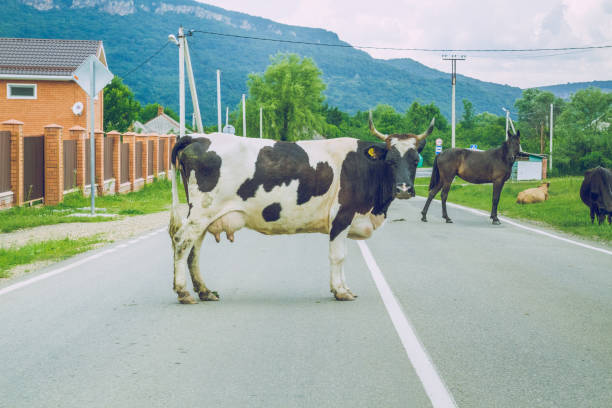inek: (161, 117, 447, 334), (580, 160, 611, 226)
